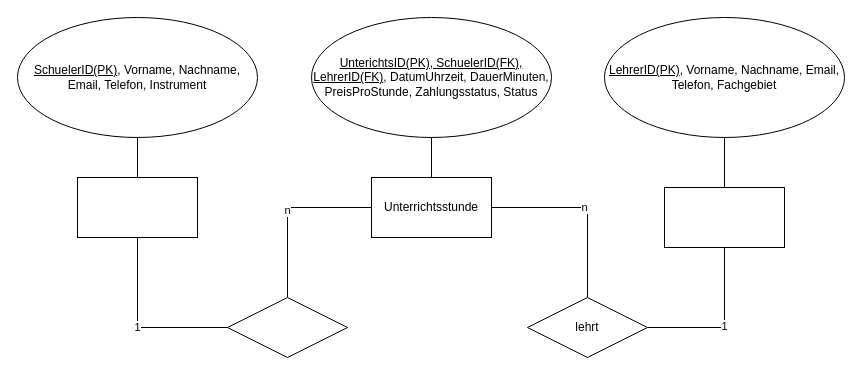
Image size: 862x375. Some labels were removed from this diagram. Each missing label, with the centre of its shape:
"hat" belongs at point (287, 327).
"Lehrer" belongs at point (724, 217).
"Schueler" belongs at point (137, 207).
